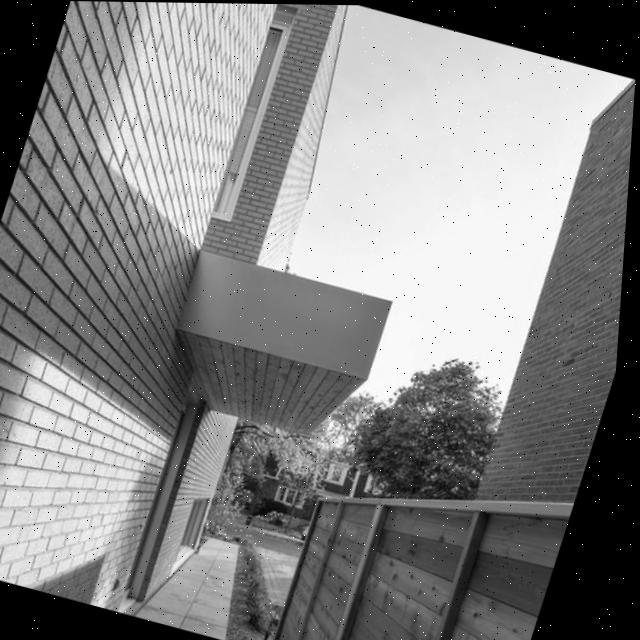building: (0, 0, 477, 640), (467, 69, 636, 527), (242, 428, 383, 536)
